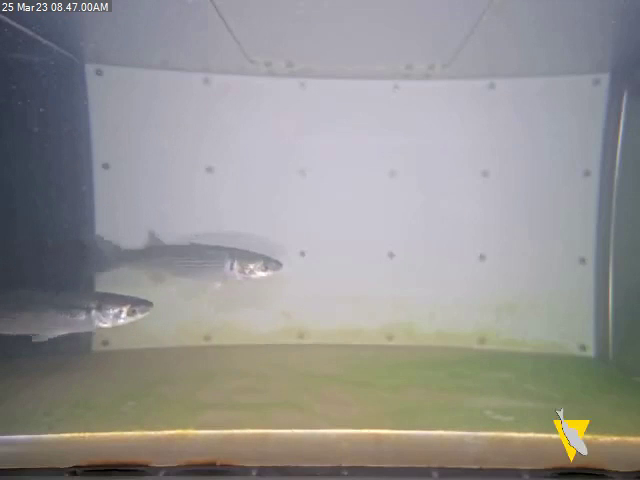\uC22D\uC5B4: (83, 221, 285, 292)
